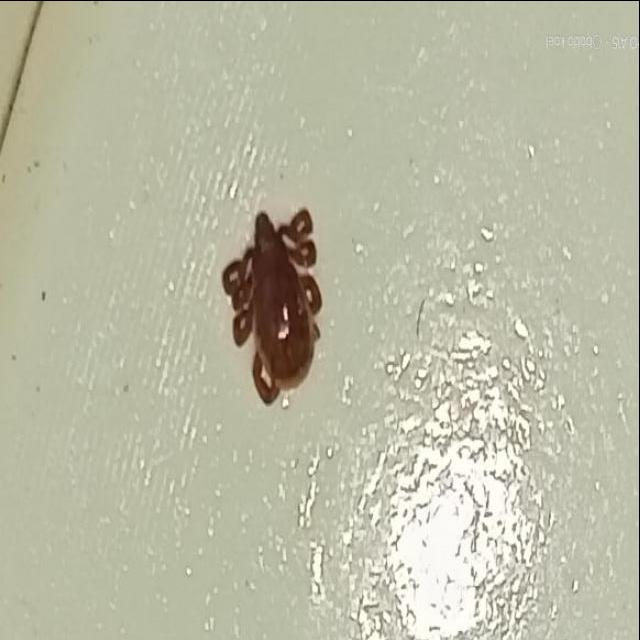Rhipicephalus Sanguineus-M: (221, 205, 326, 405)
